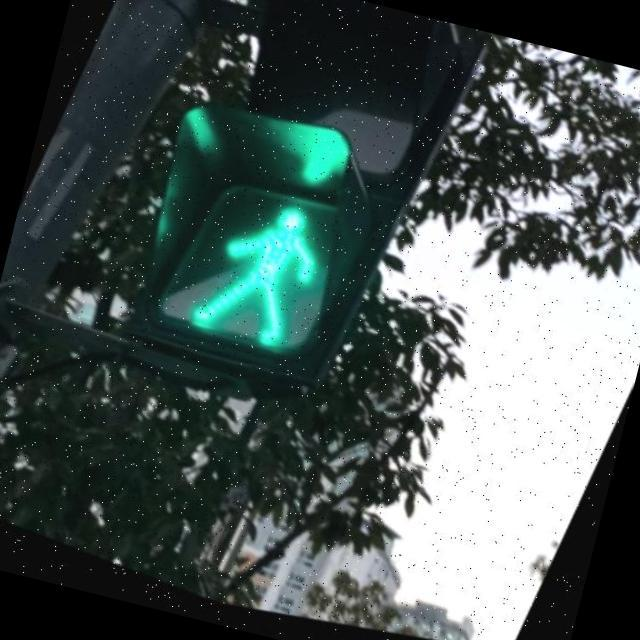greenlight: (118, 3, 496, 389)
